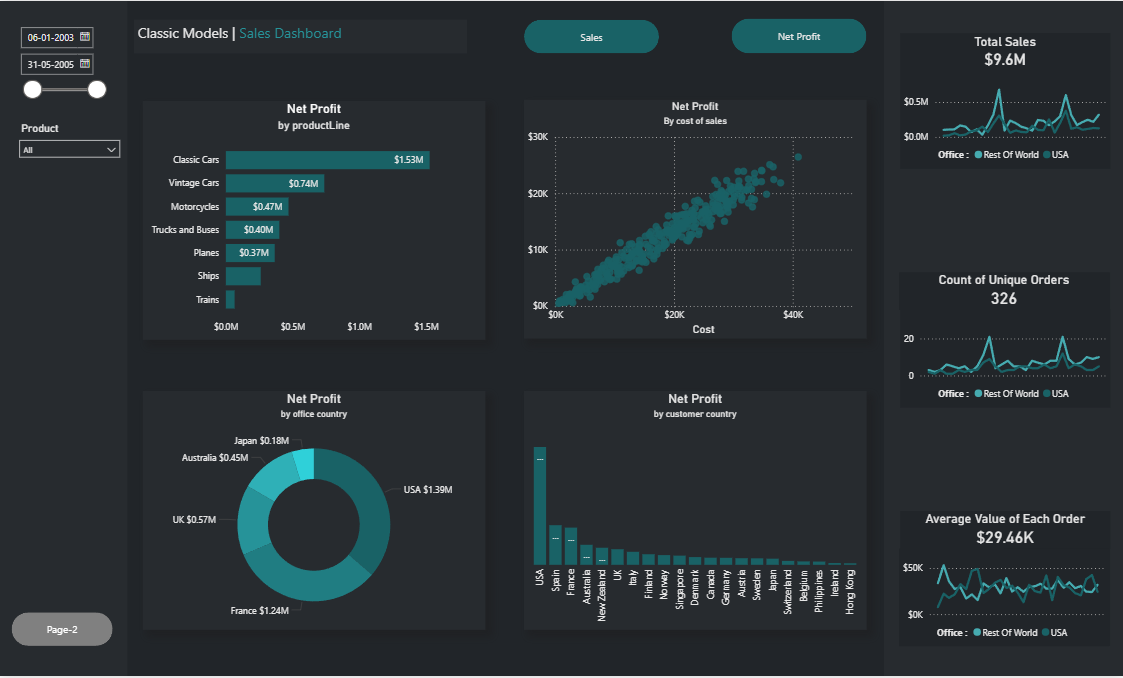

This screenshot's page, from the dashboard's own definition file:
{"tool":"powerbi","page":{"name":"Sales OverView- Page-1","canvas":[1500,900],"ordinal":0},"visuals":[{"type":"shape","box":[0,0,171,900.5],"z":0},{"type":"shape","box":[1180.3,0,320,900.5],"z":1000},{"type":"shape","box":[1201.2,43.4,279.8,180.1],"z":2000},{"type":"shape","box":[1201.2,680.2,279.8,180.1],"z":3000},{"type":"shape","box":[1201.2,361.8,279.8,180.1],"z":4000},{"type":"card","title":"Total Sales","fields":{"Values":["Sum(classicmodels sales_data_for_power_bi.sales_value)"]},"box":[1201.1,43.3,280,50],"z":5000},{"type":"card","title":"Count of Unique Orders","fields":{"Values":["Count(classicmodels sales_data_for_power_bi.orderNumber)"]},"box":[1200,362.2,280,50],"z":6000},{"type":"card","title":"Average Value of Each Order","fields":{"Values":["classicmodels sales_data_for_power_bi.Average Sales Value per order"]},"box":[1201.4,680,280,50],"z":7000},{"type":"lineChart","fields":{"Y":["Sum(classicmodels sales_data_for_power_bi.sales_value)"],"Category":["classicmodels sales_data_for_power_bi.orderDate.Variation.Date Hierarchy.Year","classicmodels sales_data_for_power_bi.orderDate.Variation.Date Hierarchy.Quarter","classicmodels sales_data_for_power_bi.orderDate.Variation.Date Hierarchy.Month"],"Series":["classicmodels sales_data_for_power_bi.Office Grouped"]},"box":[1201.8,93.6,280,130],"z":8000},{"type":"lineChart","fields":{"Category":["classicmodels sales_data_for_power_bi.orderDate.Variation.Date Hierarchy.Year","classicmodels sales_data_for_power_bi.orderDate.Variation.Date Hierarchy.Quarter","classicmodels sales_data_for_power_bi.orderDate.Variation.Date Hierarchy.Month"],"Series":["classicmodels sales_data_for_power_bi.Office Grouped"],"Y":["Count(classicmodels sales_data_for_power_bi.orderNumber)"]},"box":[1202.2,412.2,280,130],"z":9000},{"type":"lineChart","fields":{"Category":["classicmodels sales_data_for_power_bi.orderDate.Variation.Date Hierarchy.Year","classicmodels sales_data_for_power_bi.orderDate.Variation.Date Hierarchy.Quarter","classicmodels sales_data_for_power_bi.orderDate.Variation.Date Hierarchy.Month"],"Series":["classicmodels sales_data_for_power_bi.Office Grouped"],"Y":["classicmodels sales_data_for_power_bi.Average Sales Value per order"]},"box":[1200,730,280,130],"z":10000},{"type":"clusteredBarChart","fields":{"Y":["Table.Selected Metric"],"Category":["classicmodels sales_data_for_power_bi.productLine"]},"box":[191.7,133.3,456.7,318.3],"z":11000},{"type":"actionButton","box":[700,25,180,45],"z":12000},{"type":"actionButton","box":[976.7,23.3,180,46.7],"z":13000},{"type":"scatterChart","fields":{"Y":["Table.Selected Metric"],"X":["Sum(classicmodels sales_data_for_power_bi.cost_of_sales)"],"Category":["classicmodels sales_data_for_power_bi.orderNumber"]},"box":[700,131.7,456.7,318.3],"z":15000},{"type":"donutChart","fields":{"Y":["Table.Selected Metric"],"Category":["classicmodels sales_data_for_power_bi.office_country"]},"box":[191.7,520,456.7,318.3],"z":16000},{"type":"columnChart","fields":{"Y":["Table.Selected Metric"],"Category":["classicmodels sales_data_for_power_bi.customer_country"]},"box":[700,520,456.7,318.3],"z":17000},{"type":"textbox","box":[180,25,443.8,45],"z":18000}]}

Visuals, with their boxes in screenshot pixels (x1, y1, x2, y2), scaled from the page's 1500x900 canvas onto the 1123x678 screenshot:
shape: pyautogui.locateOnScreen(0, 0, 128, 677)
shape: pyautogui.locateOnScreen(884, 0, 1122, 677)
shape: pyautogui.locateOnScreen(899, 33, 1109, 168)
shape: pyautogui.locateOnScreen(899, 512, 1109, 648)
shape: pyautogui.locateOnScreen(899, 273, 1109, 408)
"Total Sales" card: pyautogui.locateOnScreen(899, 33, 1109, 70)
"Count of Unique Orders" card: pyautogui.locateOnScreen(898, 273, 1108, 311)
"Average Value of Each Order" card: pyautogui.locateOnScreen(899, 512, 1109, 550)
lineChart - Sum(classicmodels sales_data_for_power_bi.sales_value) x classicmodels sales_data_for_power_bi.orderDate.Variation.Date Hierarchy.Year: pyautogui.locateOnScreen(900, 71, 1109, 168)
lineChart - classicmodels sales_data_for_power_bi.orderDate.Variation.Date Hierarchy.Year x classicmodels sales_data_for_power_bi.orderDate.Variation.Date Hierarchy.Quarter: pyautogui.locateOnScreen(900, 311, 1110, 408)
lineChart - classicmodels sales_data_for_power_bi.orderDate.Variation.Date Hierarchy.Year x classicmodels sales_data_for_power_bi.orderDate.Variation.Date Hierarchy.Quarter: pyautogui.locateOnScreen(898, 550, 1108, 648)
clusteredBarChart - Table.Selected Metric x classicmodels sales_data_for_power_bi.productLine: pyautogui.locateOnScreen(144, 100, 485, 340)
actionButton: pyautogui.locateOnScreen(524, 19, 659, 53)
actionButton: pyautogui.locateOnScreen(731, 18, 866, 53)
scatterChart - Table.Selected Metric x Sum(classicmodels sales_data_for_power_bi.cost_of_sales): pyautogui.locateOnScreen(524, 99, 866, 339)
donutChart - Table.Selected Metric x classicmodels sales_data_for_power_bi.office_country: pyautogui.locateOnScreen(144, 392, 485, 632)
columnChart - Table.Selected Metric x classicmodels sales_data_for_power_bi.customer_country: pyautogui.locateOnScreen(524, 392, 866, 632)
textbox: pyautogui.locateOnScreen(135, 19, 467, 53)
